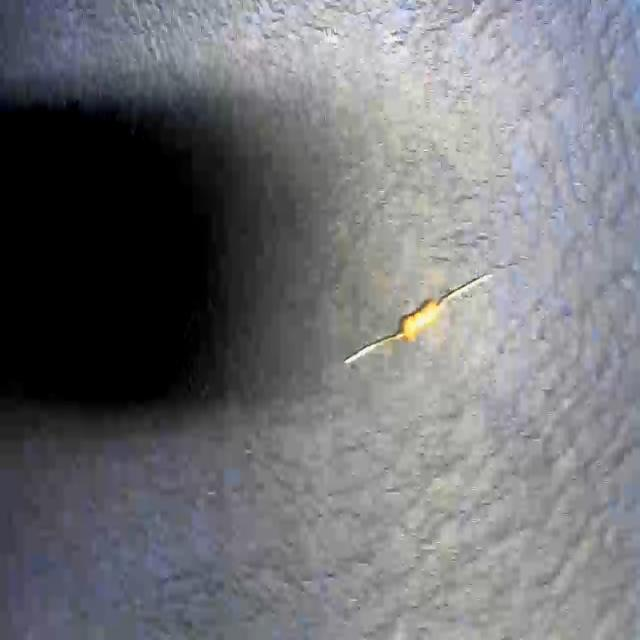resistor: (342, 274, 494, 371)
